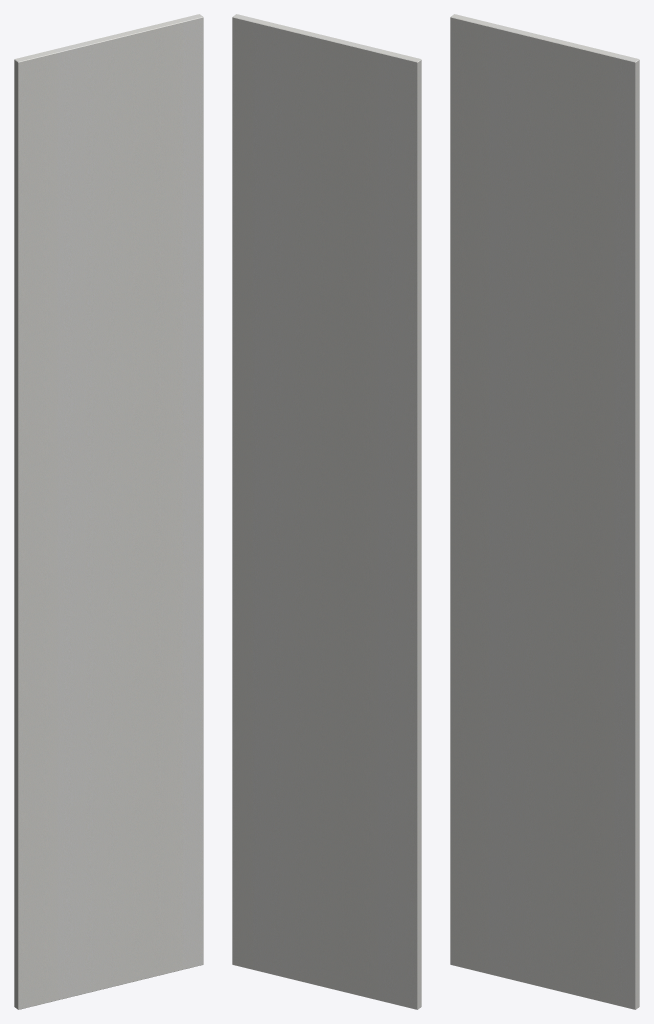
The picture shows the model from 3 angles, left to right: view 1: azimuth 30°, elevation 25°; view 2: azimuth 150°, elevation 25°; view 3: azimuth 330°, elevation 25°; orthographic projection.
Parts seen in each view (by area): view 1: HM1002735; view 2: HM1002735; view 3: HM1002735.
Boxes of the visible parts, <box> form: HM1002735: <box>14,14,203,1009</box>; HM1002735: <box>232,14,421,1009</box>; HM1002735: <box>450,14,639,1009</box>.
Bounding box in the file's own units: 0.445 × 2.17 × 0.018.
Materials: 1 (1 with a texture image).
